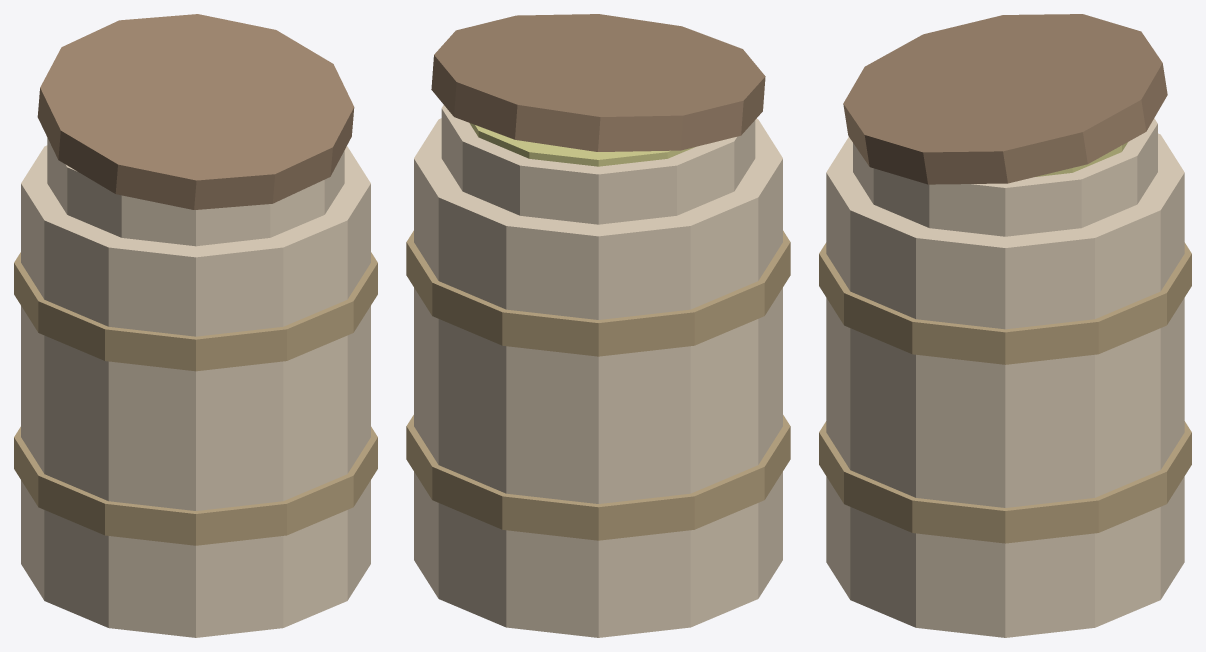
File: item_pickled_cabbage.glb
3 views of the same model, side by side, from view 1: azimuth 30°, elevation 25°; view 2: azimuth 150°, elevation 25°; view 3: azimuth 270°, elevation 25° (orthographic). The views are drawn at different scales.
Visible parts, largest first — view 1: clay_light, wood_dark, rope; view 2: clay_light, wood_dark, rope, brine; view 3: clay_light, wood_dark, rope.
Boxes of the visible parts, bbox=[...] form: clay_light: bbox=[21, 138, 370, 637]; wood_dark: bbox=[37, 14, 354, 209]; rope: bbox=[14, 252, 377, 545]; clay_light: bbox=[414, 105, 782, 637]; wood_dark: bbox=[431, 14, 765, 151]; rope: bbox=[406, 230, 790, 540]; brine: bbox=[469, 123, 694, 166]; clay_light: bbox=[826, 118, 1184, 637]; wood_dark: bbox=[843, 14, 1167, 184]; rope: bbox=[819, 242, 1191, 543].
Size of the model in its own units: 0.208 by 0.3074 by 0.208.
